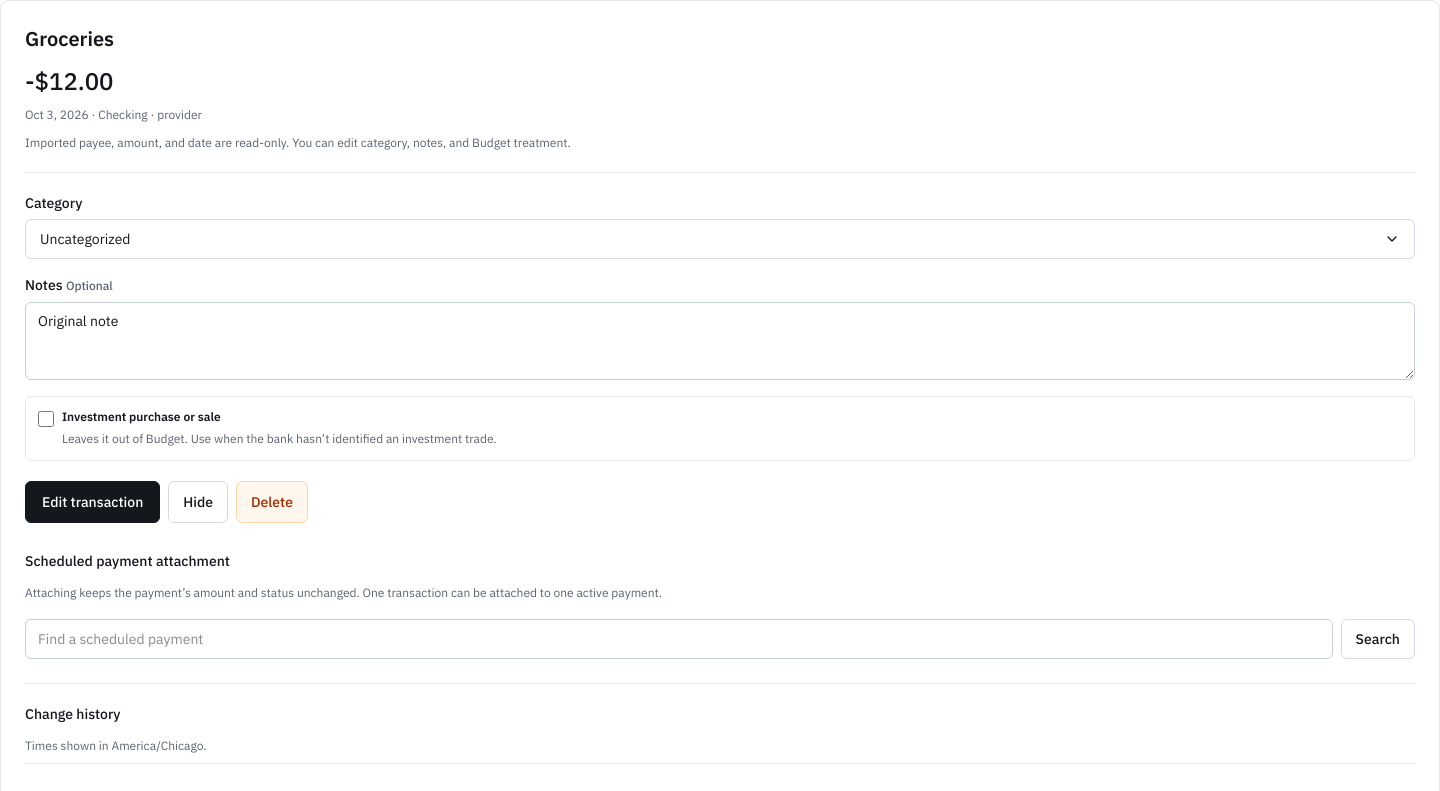
Scenario: Transaction workspace › saves metadata using the loaded lock and retains values on a conflict
Replace the text in the text box with id "transaction-notes" with "New note". click: (720, 340)
box: x1=25 y1=302 x2=1415 y2=380
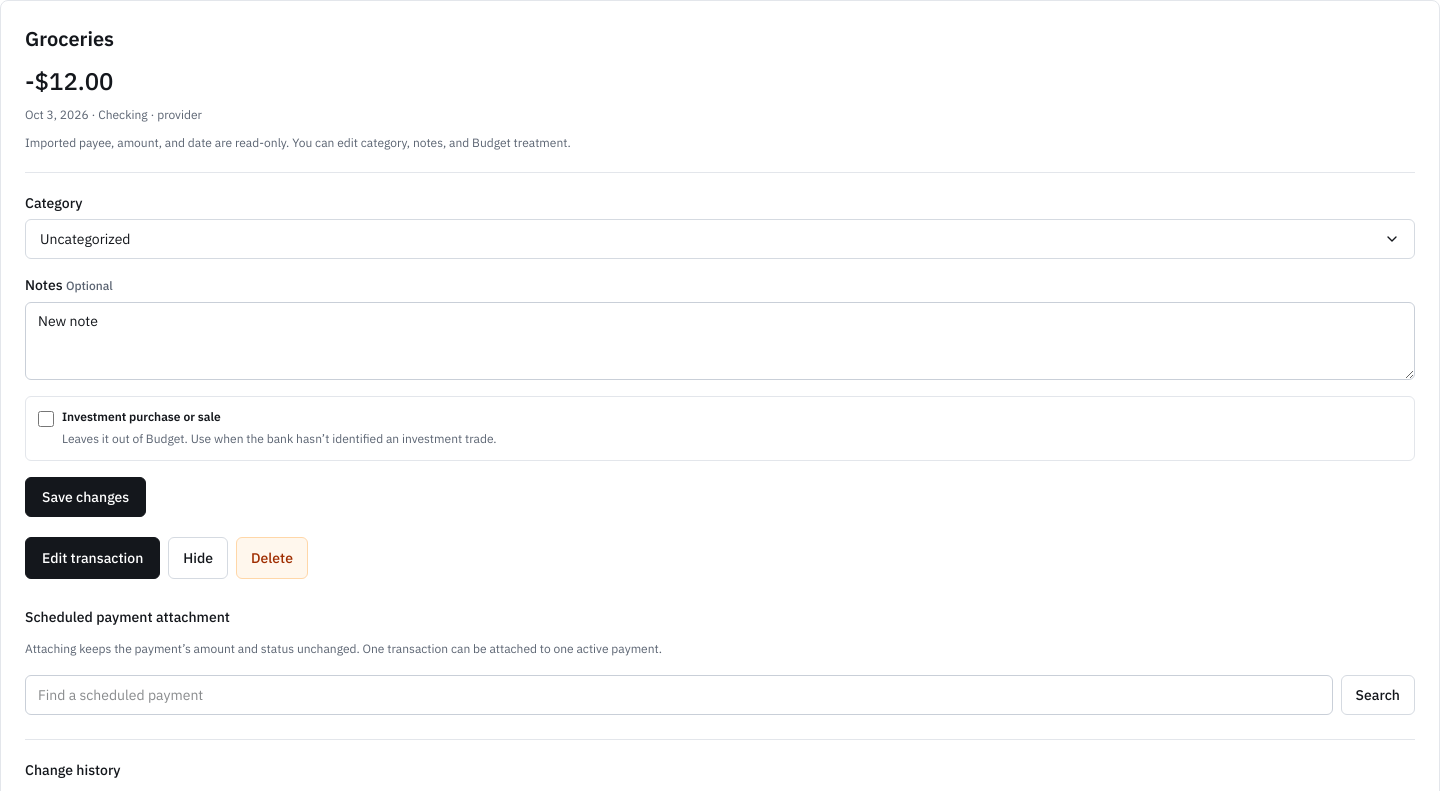
Submit the form that starts with "Category", box x1=25 y1=172 x2=1415 y2=517
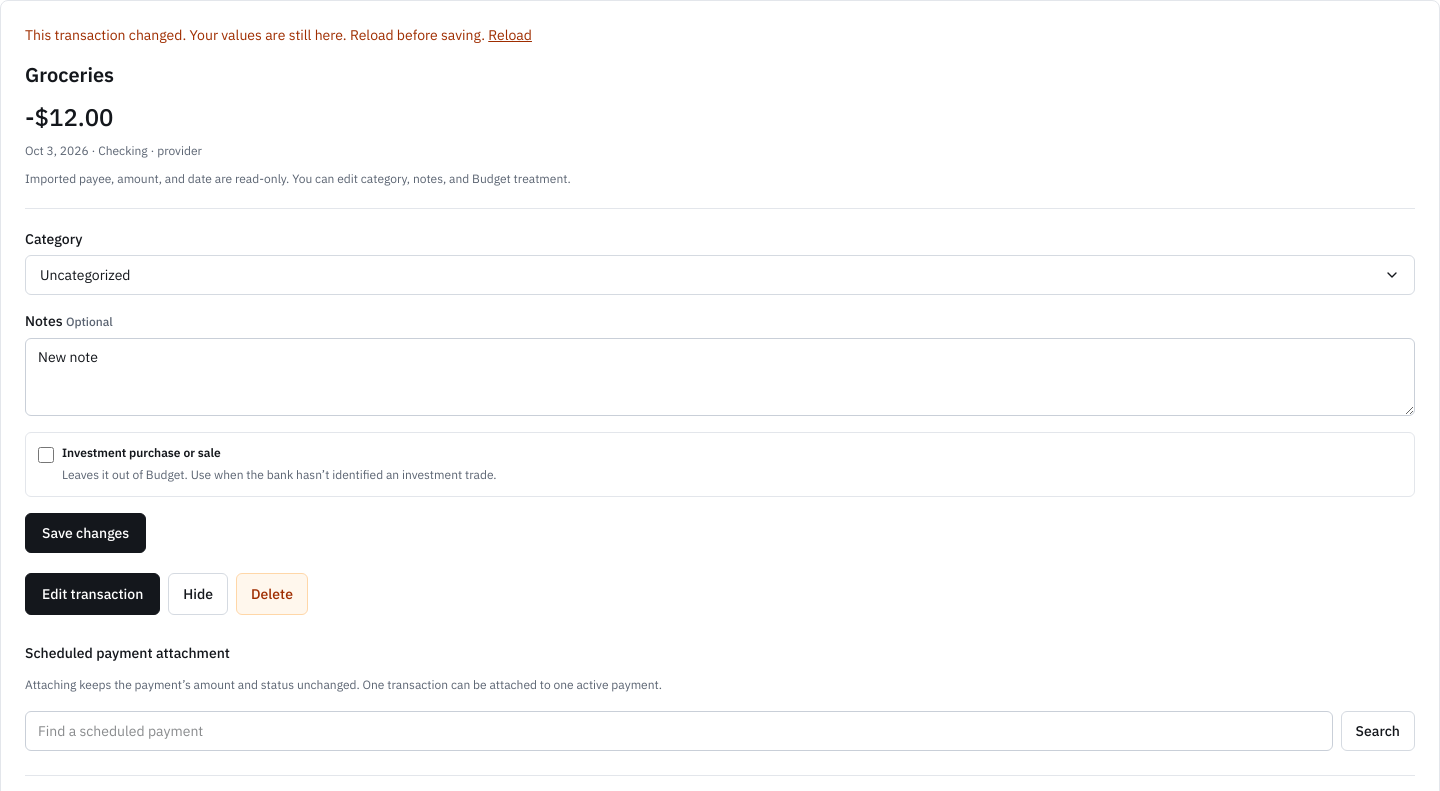
Now the text "Your values are still here" is shown, box x1=25 y1=26 x2=488 y2=44
